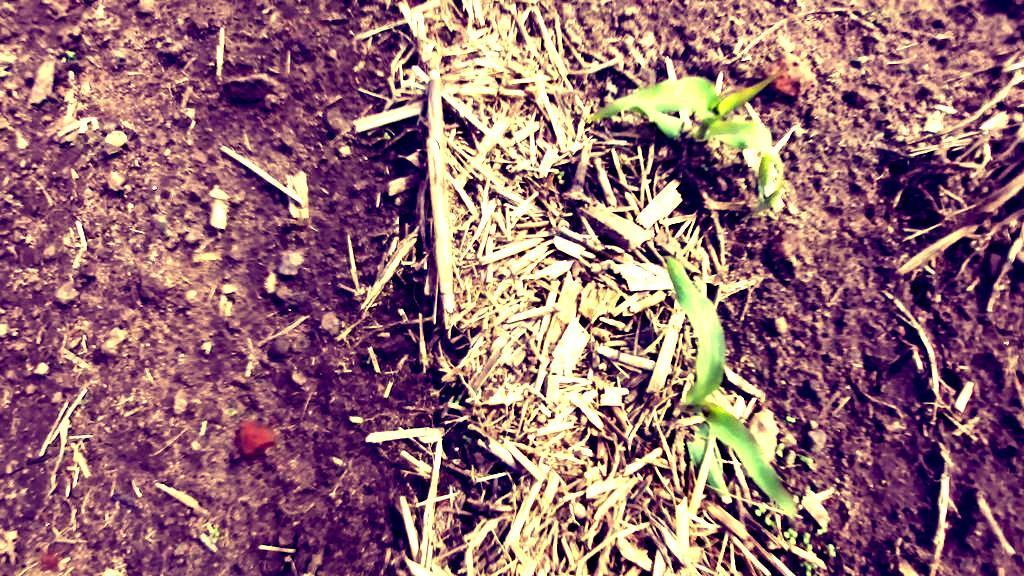BroWeed: (885, 537, 919, 576), (208, 280, 239, 318), (796, 449, 821, 473), (207, 183, 230, 206), (0, 323, 18, 338), (775, 440, 789, 459), (802, 524, 813, 545), (764, 512, 776, 531), (799, 560, 818, 571), (460, 433, 475, 446), (787, 530, 800, 545), (826, 542, 837, 559), (713, 151, 723, 169), (63, 49, 77, 61), (201, 340, 213, 354), (783, 414, 797, 426), (782, 527, 795, 539), (555, 168, 567, 181), (754, 507, 768, 518), (804, 560, 813, 576), (804, 543, 815, 556), (698, 162, 711, 173), (225, 299, 233, 316), (453, 393, 463, 405), (208, 527, 221, 536), (817, 527, 829, 535), (383, 131, 391, 140), (0, 308, 6, 315)
Maize: (615, 245, 801, 548), (586, 62, 784, 216)
